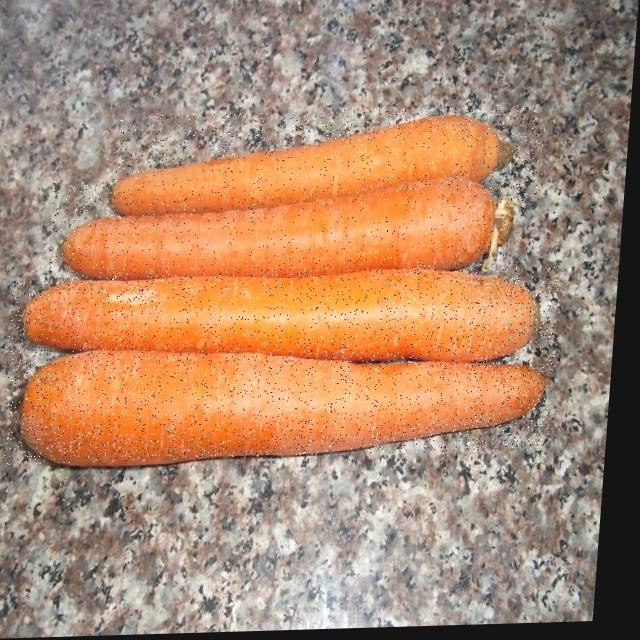carrots: (3, 334, 553, 465), (6, 263, 564, 388), (47, 166, 513, 286), (112, 104, 547, 213)
